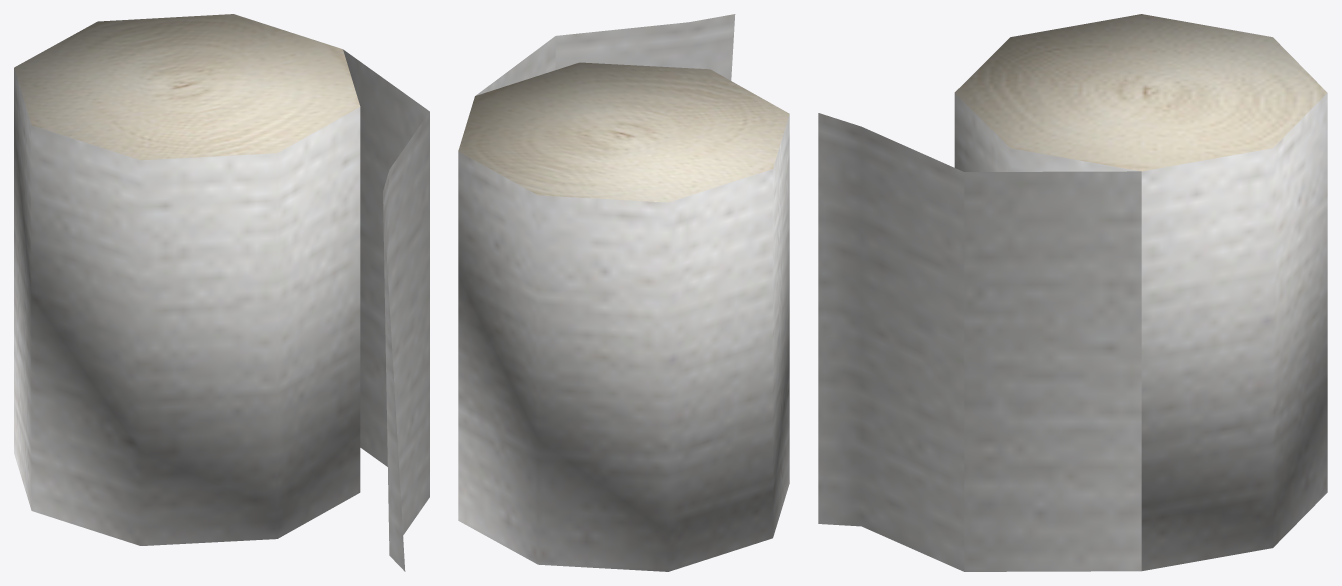
3 views of the same model, side by side, from view 1: azimuth 30°, elevation 25°; view 2: azimuth 150°, elevation 25°; view 3: azimuth 270°, elevation 25° (orthographic). The views are drawn at different scales.
Parts seen in each view (by area): view 1: Cube; view 2: Cube; view 3: Cube.
Part boxes in pixels (box(x1,y1,x2,y2)): Cube: box(14, 14, 429, 571); Cube: box(458, 14, 789, 571); Cube: box(818, 14, 1327, 571).
Bounding box in the file's own units: 1.23 × 1.45 × 1.67.
Materials: 1 (1 with a texture image).
